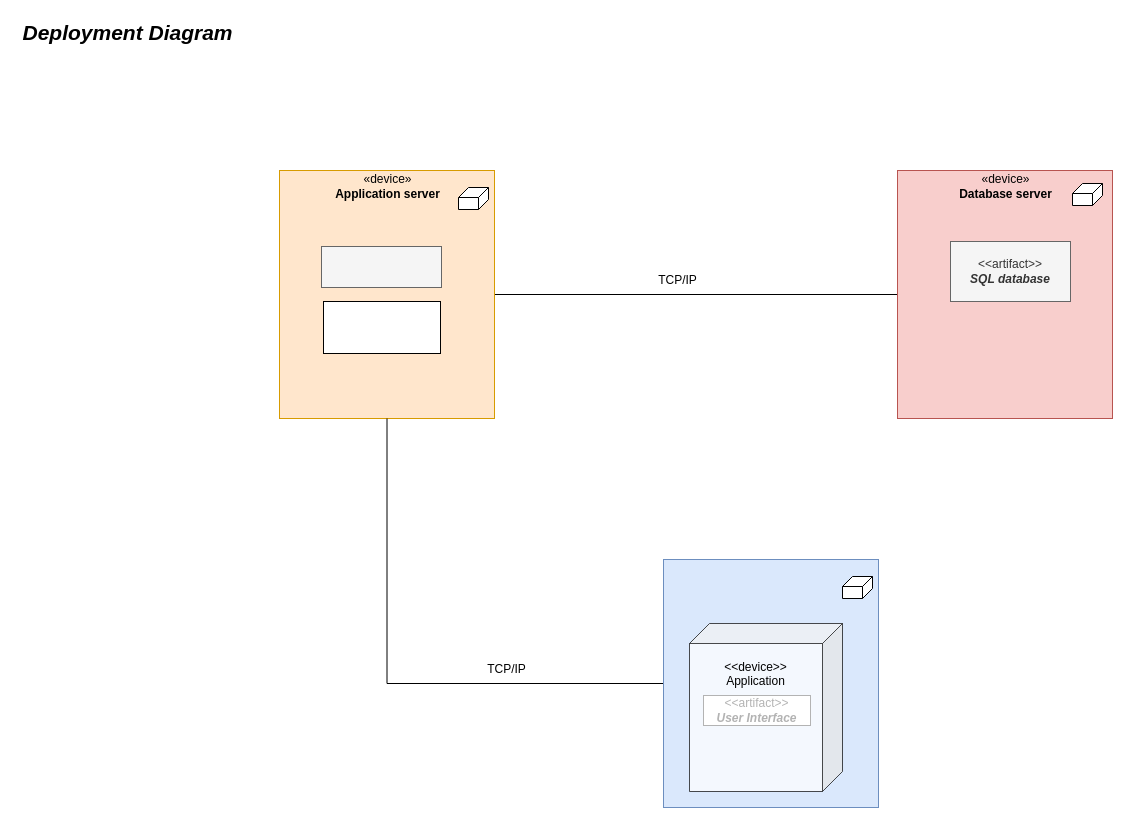
This 1130x825 diagram has some shape labels left out. The shapes that lost their labels are listed below. From the top down, each one's box as (x1, y1, x2, y2) in pixels, then its label:
(320, 246, 442, 288): <<artifact>> index.php
(322, 300, 440, 354): <<artifact>> Mail server (Gmail)
(662, 558, 878, 808): «device» User PC
